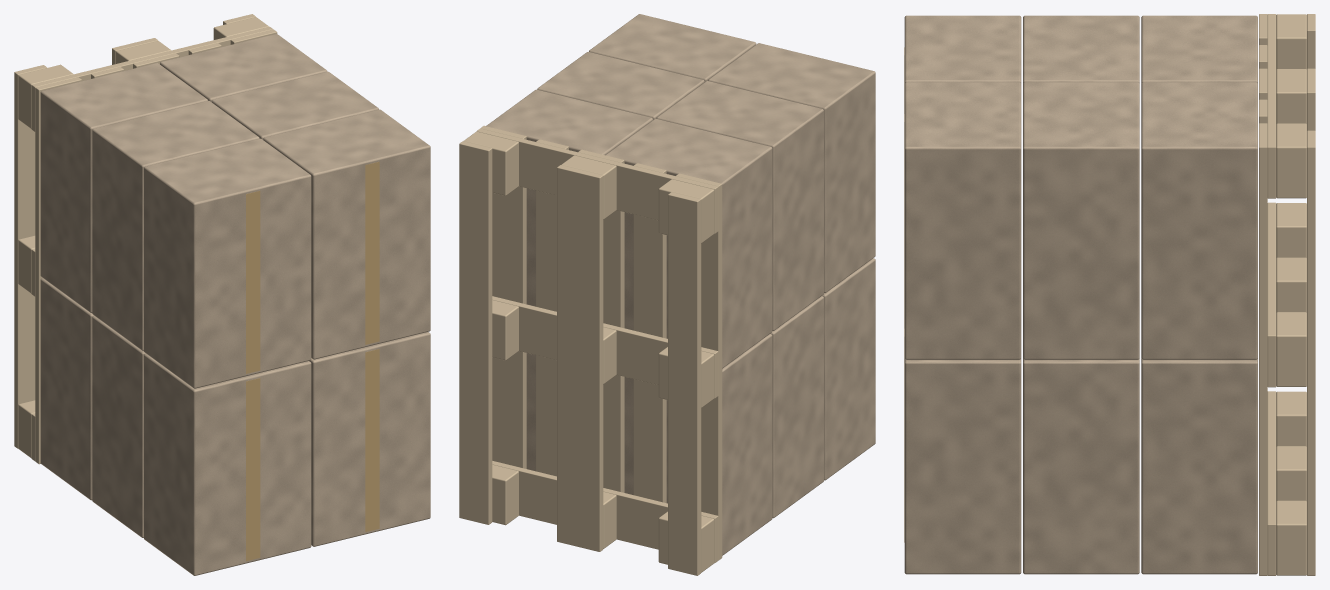
The model's file is Stock__PalletRacking3__PalletLoad003.glb.
3 views of the same model, side by side, from view 1: azimuth 30°, elevation 25°; view 2: azimuth 150°, elevation 25°; view 3: azimuth 270°, elevation 25° (orthographic). The views are drawn at different scales.
Visible parts, largest first — view 1: /World/Stock/PalletRacking3/PalletLoad003/Visual/Cardboard, /World/Stock/PalletRacking3/PalletLoad003/Visual/PalletWood, /World/Stock/PalletRacking3/PalletLoad003/Visual/TapeBrown; view 2: /World/Stock/PalletRacking3/PalletLoad003/Visual/PalletWood, /World/Stock/PalletRacking3/PalletLoad003/Visual/Cardboard; view 3: /World/Stock/PalletRacking3/PalletLoad003/Visual/Cardboard, /World/Stock/PalletRacking3/PalletLoad003/Visual/PalletWood.
Boxes of the visible parts, x1,y1,x2,y2 form: /World/Stock/PalletRacking3/PalletLoad003/Visual/Cardboard: (40,34,430,575); /World/Stock/PalletRacking3/PalletLoad003/Visual/PalletWood: (14,14,277,464); /World/Stock/PalletRacking3/PalletLoad003/Visual/TapeBrown: (246,161,379,561); /World/Stock/PalletRacking3/PalletLoad003/Visual/PalletWood: (459,125,722,575); /World/Stock/PalletRacking3/PalletLoad003/Visual/Cardboard: (486,14,875,555); /World/Stock/PalletRacking3/PalletLoad003/Visual/Cardboard: (904,15,1257,574); /World/Stock/PalletRacking3/PalletLoad003/Visual/PalletWood: (1259,14,1315,575).
Bounding box in the file's own units: 0.8 × 1.2 × 1.04.
4 materials, 1 textured.
